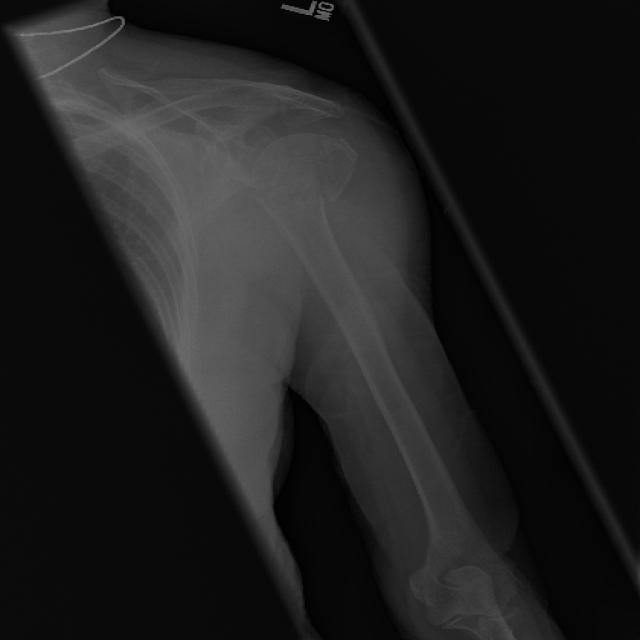humerus fracture: (279, 133, 385, 242)
